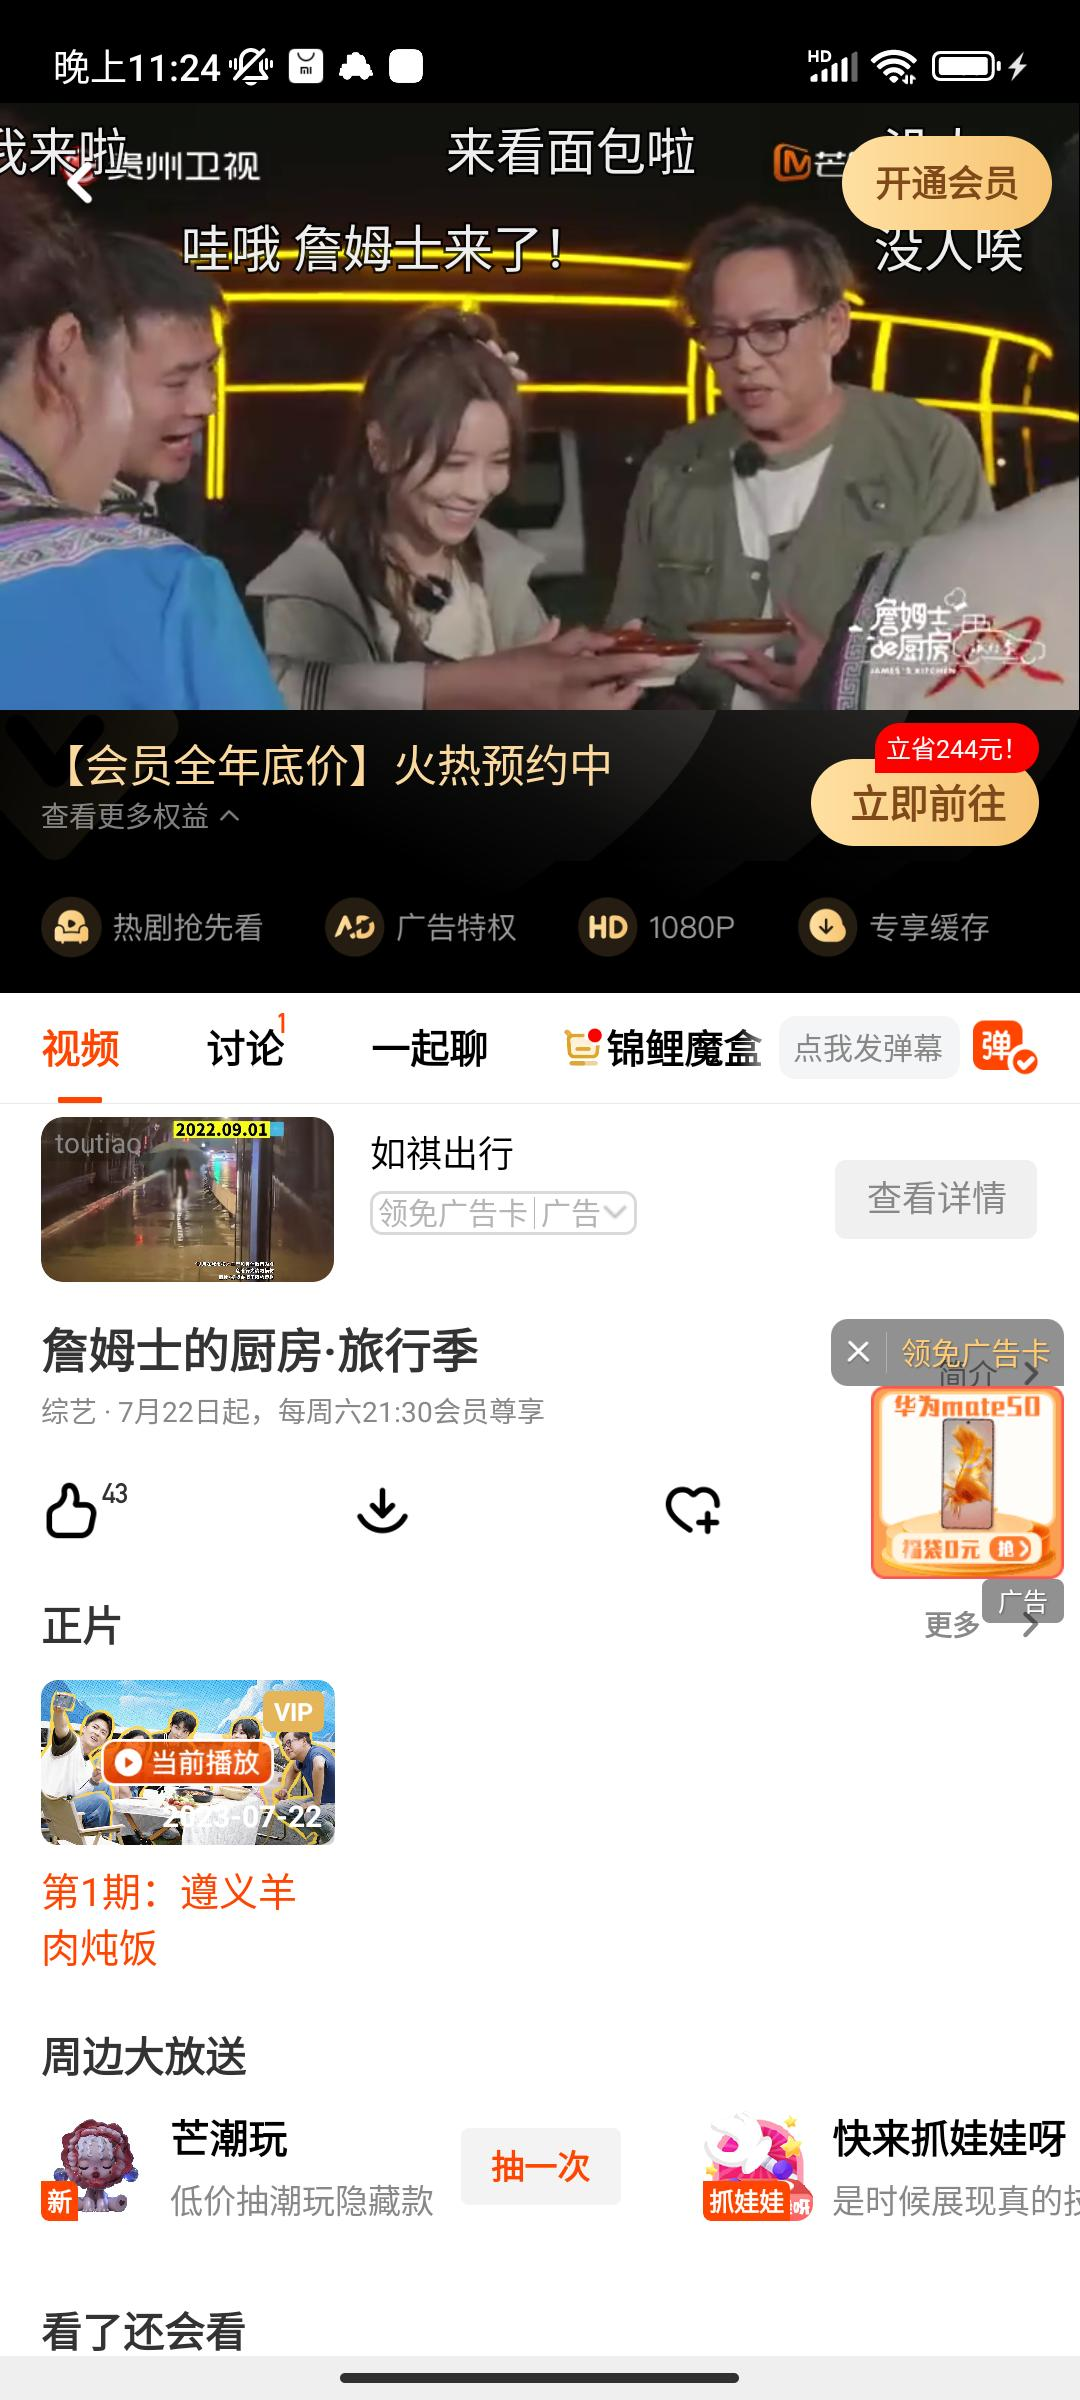ui_group: (8, 709, 1080, 998), (5, 1102, 1080, 1287), (5, 2095, 681, 2274)
